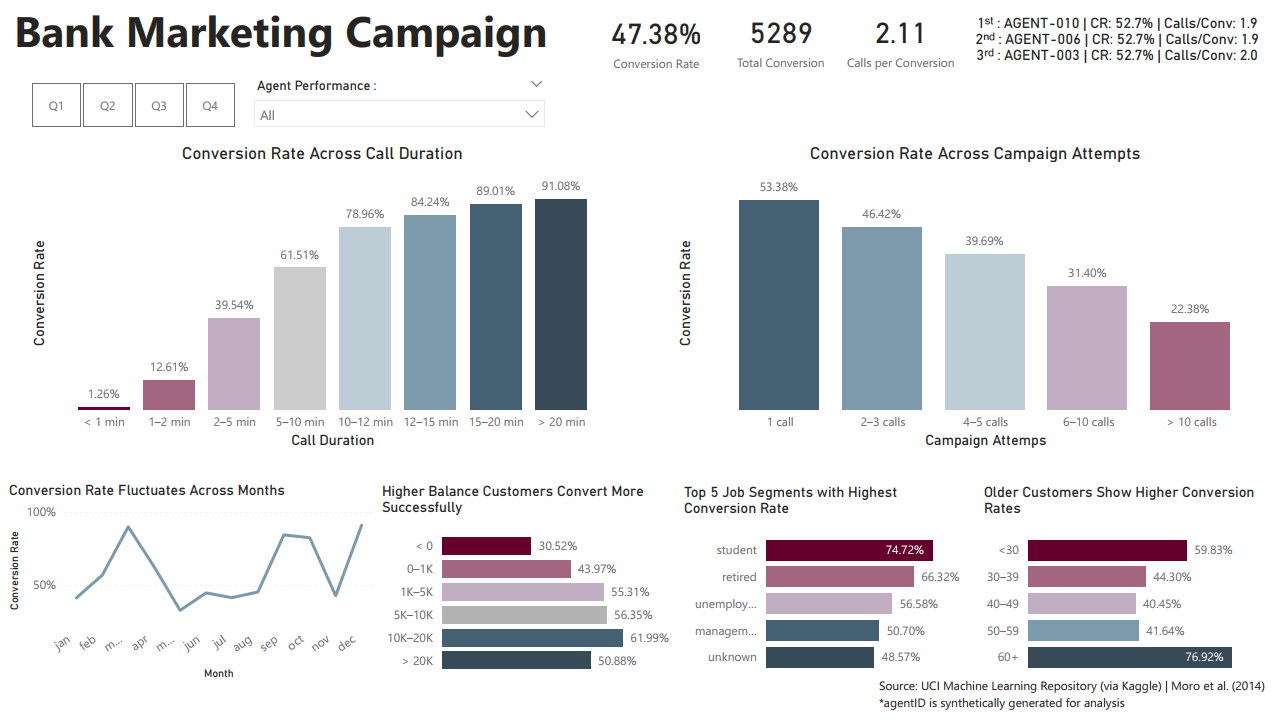

The page's visual inventory and layout, read from the dashboard file:
{"tool":"powerbi","page":{"name":"Page 1","canvas":[1280,720],"ordinal":0},"visuals":[{"type":"card","fields":{"Values":["bank.Conversion Rate"]},"box":[593,1,129,85],"z":0},{"type":"columnChart","title":"Conversion Rate Across Call Duration","fields":{"Category":["bank.duration group"],"Y":["bank.Conversion Rate"]},"box":[27,146.8,593,310],"z":1000},{"type":"columnChart","title":"Conversion Rate Across Campaign Attempts","fields":{"Category":["bank.campaign group"],"Y":["bank.Conversion Rate"]},"box":[673,146.8,607,310],"z":2000},{"type":"card","fields":{"Values":["bank.Calls per Conversion"]},"box":[842,0,120,85],"z":3000},{"type":"clusteredBarChart","title":"Older Customers Show Higher Conversion Rates","fields":{"Category":["bank.age group"],"Y":["bank.Conversion Rate"]},"box":[980,488,298,200],"z":4000},{"type":"clusteredBarChart","title":"Top 5 Job Segments with Highest Conversion Rate","fields":{"Category":["bank.job"],"Y":["bank.Conversion Rate"]},"box":[680,487.8,298,200],"z":5000},{"type":"clusteredBarChart","title":"Higher Balance Customers Convert More Successfully","fields":{"Category":["bank.balance group"],"Y":["bank.Conversion Rate"]},"box":[378,486.8,298,201],"z":6000},{"type":"card","fields":{"Values":["bank.Total Conversion"]},"box":[722,0,120,85],"z":7000},{"type":"card","fields":{"Values":["bank.Top 3 Agent"]},"box":[966,1,305,85],"z":8000},{"type":"slicer","title":"Quartal Performance","fields":{"Values":["bank.month quarter"]},"box":[7,79.8,253,58],"z":9000},{"type":"lineChart","title":"Conversion Rate Fluctuates Across Months","fields":{"Y":["bank.Conversion Rate"],"Category":["bank.Month Name"]},"box":[5,485.8,373,202],"z":10000},{"type":"textbox","box":[10,0,575,77],"z":11000},{"type":"slicer","fields":{"Values":["bank.agentID"]},"box":[245,76.8,311,58],"z":12000},{"type":"textbox","box":[865,676,415,44],"z":13000}]}

Visuals, with their boxes in screenshot pixels (x1, y1, x2, y2), scaled from the page's 1280x720 canvas onto the 1283x719 screenshot:
card - bank.Conversion Rate: {"left": 594, "top": 1, "right": 724, "bottom": 86}
"Conversion Rate Across Call Duration" columnChart: {"left": 27, "top": 147, "right": 621, "bottom": 456}
"Conversion Rate Across Campaign Attempts" columnChart: {"left": 675, "top": 147, "right": 1282, "bottom": 456}
card - bank.Calls per Conversion: {"left": 844, "top": 0, "right": 964, "bottom": 85}
"Older Customers Show Higher Conversion Rates" clusteredBarChart: {"left": 982, "top": 487, "right": 1281, "bottom": 687}
"Top 5 Job Segments with Highest Conversion Rate" clusteredBarChart: {"left": 682, "top": 487, "right": 980, "bottom": 687}
"Higher Balance Customers Convert More Successfully" clusteredBarChart: {"left": 379, "top": 486, "right": 678, "bottom": 687}
card - bank.Total Conversion: {"left": 724, "top": 0, "right": 844, "bottom": 85}
card - bank.Top 3 Agent: {"left": 968, "top": 1, "right": 1274, "bottom": 86}
"Quartal Performance" slicer: {"left": 7, "top": 80, "right": 261, "bottom": 138}
"Conversion Rate Fluctuates Across Months" lineChart: {"left": 5, "top": 485, "right": 379, "bottom": 687}
textbox: {"left": 10, "top": 0, "right": 586, "bottom": 77}
slicer - bank.agentID: {"left": 246, "top": 77, "right": 557, "bottom": 135}
textbox: {"left": 867, "top": 675, "right": 1282, "bottom": 718}
